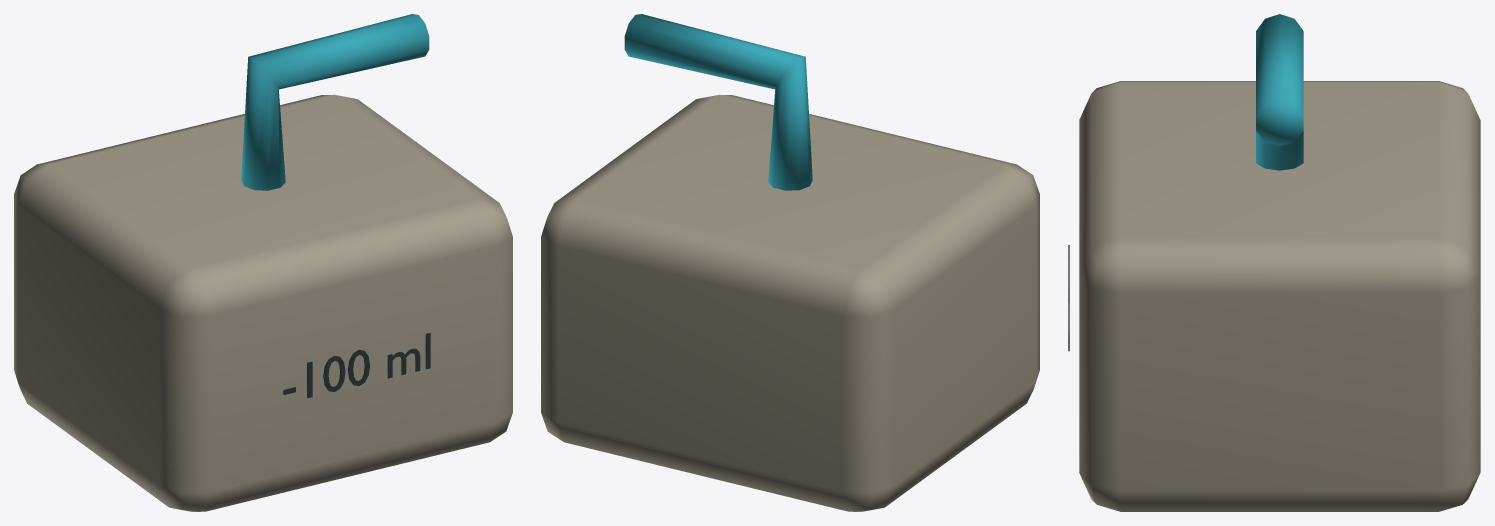
File: SM_Prop_Drain_100ml.fbx
The picture shows the model from 3 angles, left to right: view 1: azimuth 30°, elevation 25°; view 2: azimuth 150°, elevation 25°; view 3: azimuth 270°, elevation 25°; orthographic projection. The views are drawn at different scales.
Visible parts, largest first — view 1: Drain_body, Drain_lever, Drain_volume; view 2: Drain_body, Drain_lever; view 3: Drain_body, Drain_lever.
Part boxes in pixels (x1=…): Drain_body: x1=14, y1=94, x2=512, y2=511; Drain_lever: x1=241, y1=14, x2=429, y2=190; Drain_volume: x1=283, y1=333, x2=430, y2=397; Drain_body: x1=541, y1=94, x2=1039, y2=511; Drain_lever: x1=624, y1=14, x2=812, y2=190; Drain_body: x1=1079, y1=81, x2=1480, y2=511; Drain_lever: x1=1256, y1=14, x2=1303, y2=170.
Size of what is drawn, in the model's own units: 27 by 24.64 by 27.5.
